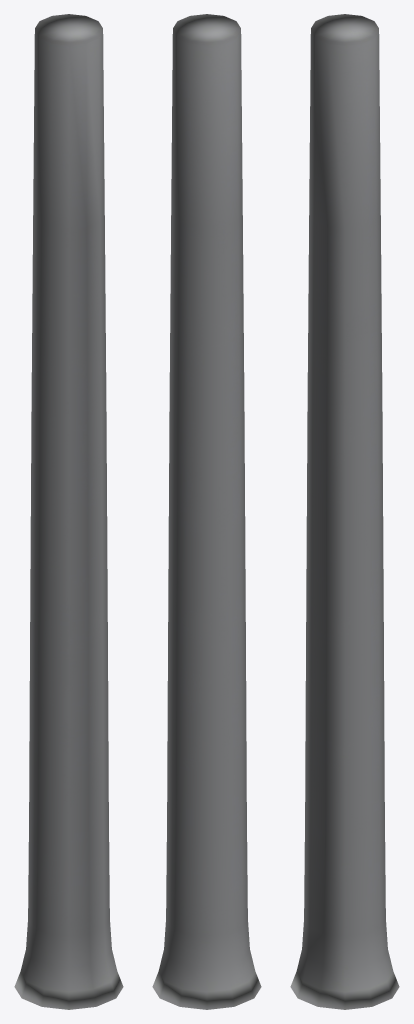
Rendered from birch-trunk-unit-tripo-original.glb.
3 renders of one model, left to right at view 1: azimuth 30°, elevation 25°; view 2: azimuth 150°, elevation 25°; view 3: azimuth 330°, elevation 25°, orthographic.
Parts seen in each view (by area): view 1: Authored_surface; view 2: Authored_surface; view 3: Authored_surface.
Part boxes in pixels (box(x1,y1,x2,y2)): Authored_surface: box(14, 14, 123, 1009); Authored_surface: box(152, 14, 261, 1009); Authored_surface: box(290, 14, 399, 1009).
Size of the model in its own units: 0.1032 by 1 by 0.1032.
Materials: 1 (1 with a texture image).
